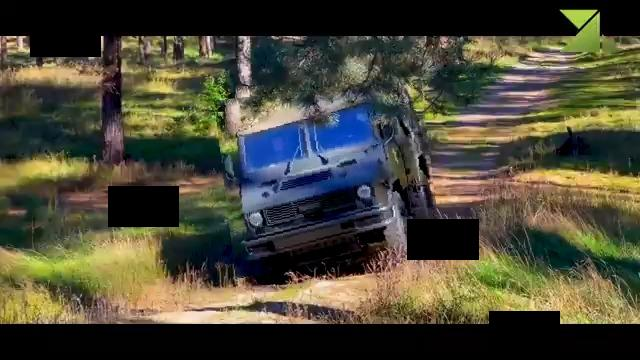MIL_HMMWV: (220, 81, 438, 272)
